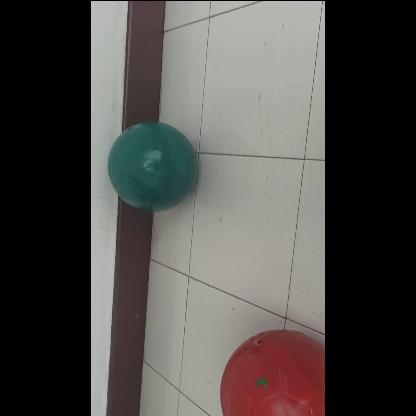green_ball: (106, 124, 196, 212)
